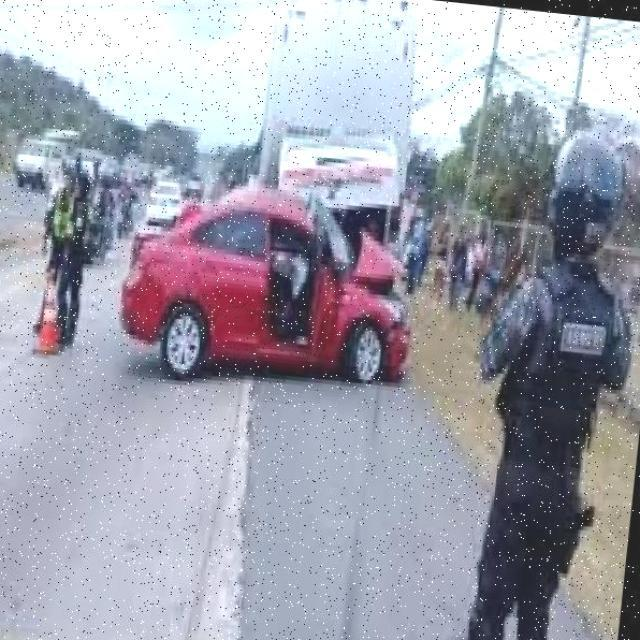accident: (233, 122, 451, 429)
